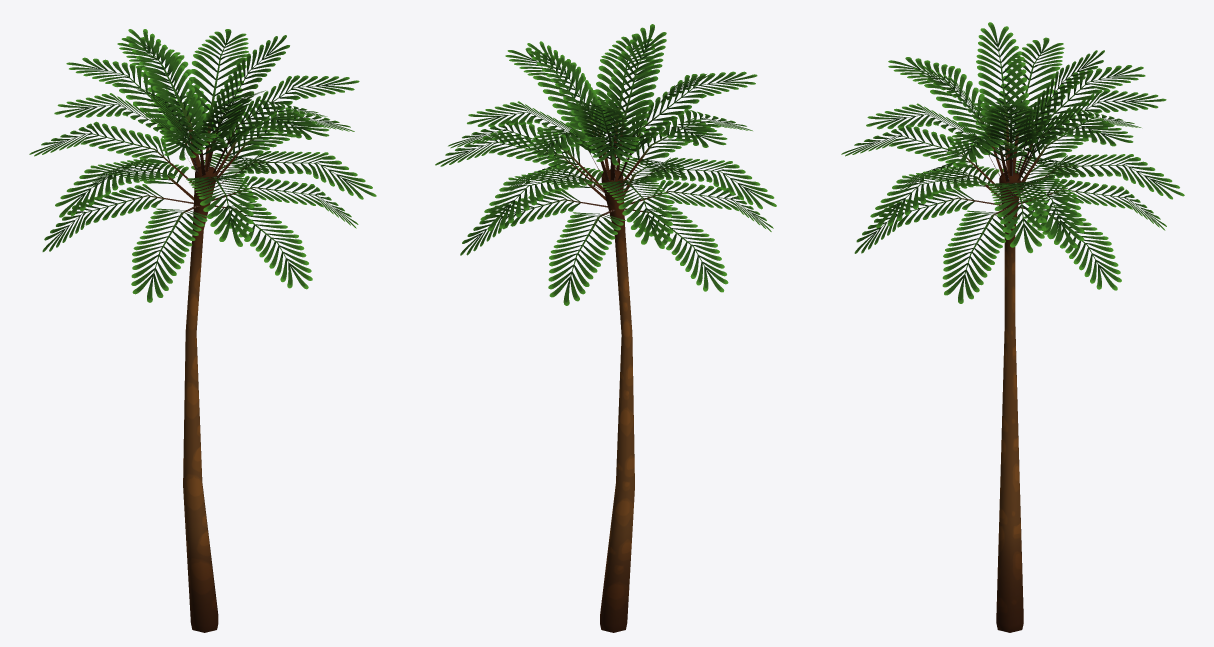
The model's file is Tree8B.glb.
3 views of the same model, side by side, from view 1: azimuth 30°, elevation 25°; view 2: azimuth 150°, elevation 25°; view 3: azimuth 270°, elevation 25° (orthographic).
Parts seen in each view (by area): view 1: Tree_17a; view 2: Tree_17a; view 3: Tree_17a.
Boxes of the visible parts, left/top/right/bottom form: Tree_17a: left=29, top=29, right=376, bottom=632; Tree_17a: left=435, top=24, right=776, bottom=632; Tree_17a: left=841, top=22, right=1184, bottom=632.
Bounding box in the file's own units: 98.85 × 163 × 98.22.
Materials: 1 (1 with a texture image).
